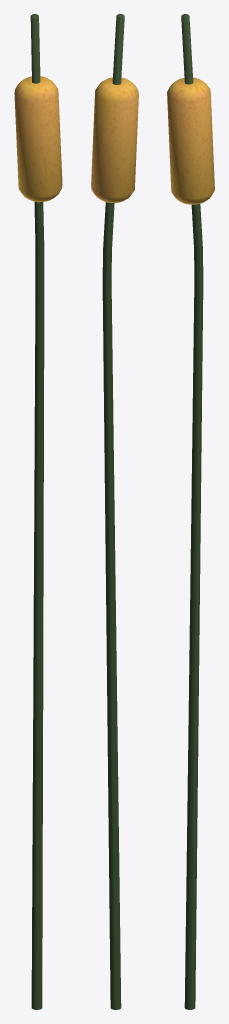
The model's file is pond_sedge02.glb.
The picture shows the model from 3 angles, left to right: view 1: azimuth 30°, elevation 25°; view 2: azimuth 150°, elevation 25°; view 3: azimuth 330°, elevation 25°; orthographic projection.
Parts seen in each view (by area): view 1: sedge_02_Plants_0; view 2: sedge_02_Plants_0; view 3: sedge_02_Plants_0.
Part boxes in pixels (x1,y1,x2,y2): sedge_02_Plants_0: (14, 14, 62, 1009); sedge_02_Plants_0: (91, 14, 138, 1009); sedge_02_Plants_0: (167, 14, 214, 1009).
Bounding box in the file's own units: 0.0371 × 0.83 × 0.0335.
1 material, 1 textured.
